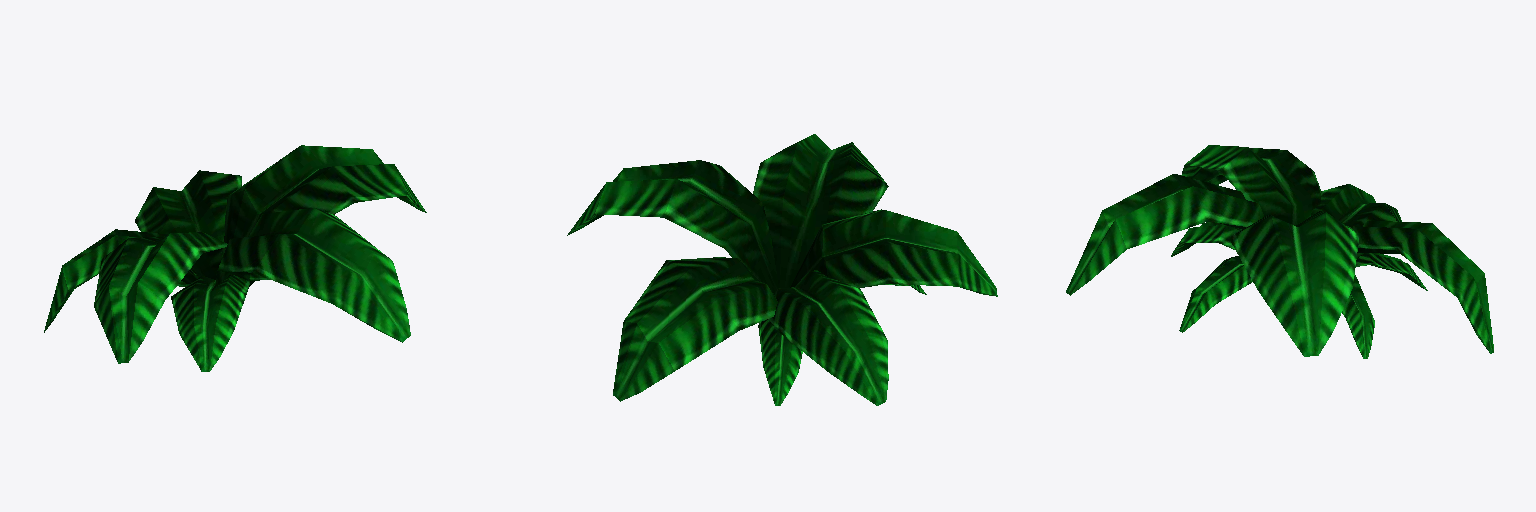
3 views of the same model, side by side, from view 1: azimuth 30°, elevation 25°; view 2: azimuth 150°, elevation 25°; view 3: azimuth 270°, elevation 25° (orthographic).
Visible parts, largest first — view 1: Fern_OBJ:pCube29; view 2: Fern_OBJ:pCube29; view 3: Fern_OBJ:pCube29.
Boxes of the visible parts, box(x1,y1,x2,y2) form: Fern_OBJ:pCube29: box(44, 145, 426, 371); Fern_OBJ:pCube29: box(567, 134, 997, 405); Fern_OBJ:pCube29: box(1066, 145, 1493, 358).
Size of the model in its own units: 1.64 by 0.6577 by 1.66.
Materials: 1 (1 with a texture image).